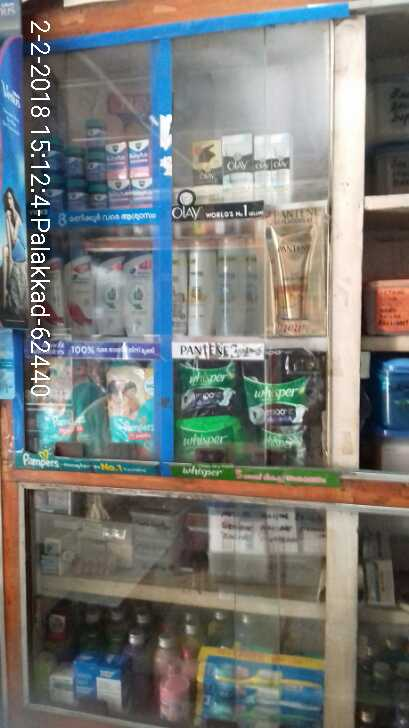vicks: (38, 111, 153, 211)
